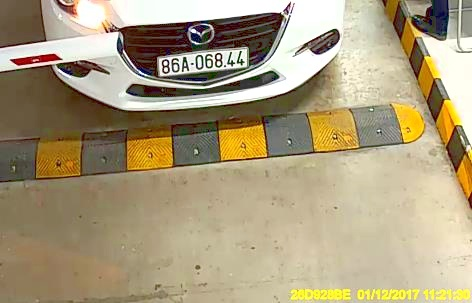plate: (155, 47, 251, 75)
